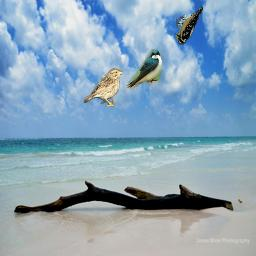Sparrow: (83, 68, 123, 107)
Swallow: (126, 49, 162, 89)
Woodpecker: (175, 6, 203, 46)
